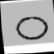no answer: (15, 15, 51, 42)
